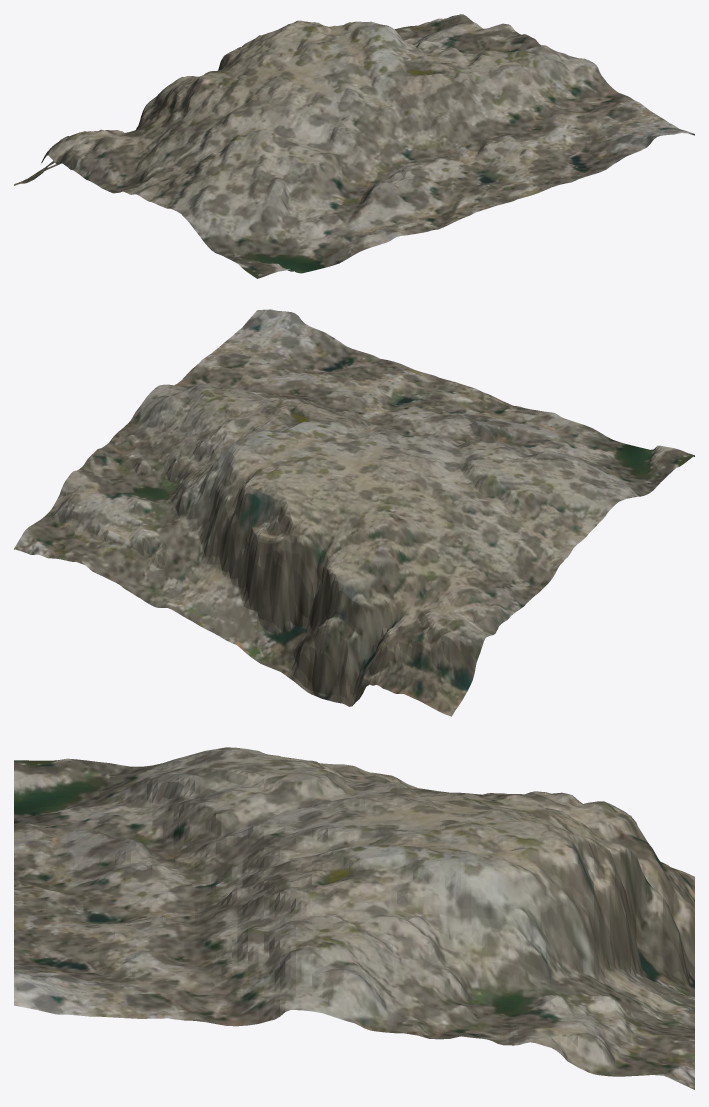
3 views of the same model, one above another, from view 1: azimuth 30°, elevation 25°; view 2: azimuth 150°, elevation 25°; view 3: azimuth 270°, elevation 25° (orthographic). The views are drawn at different scales.
Size of the model in its own units: 250 by 90.96 by 241.
1 material, 1 textured.
